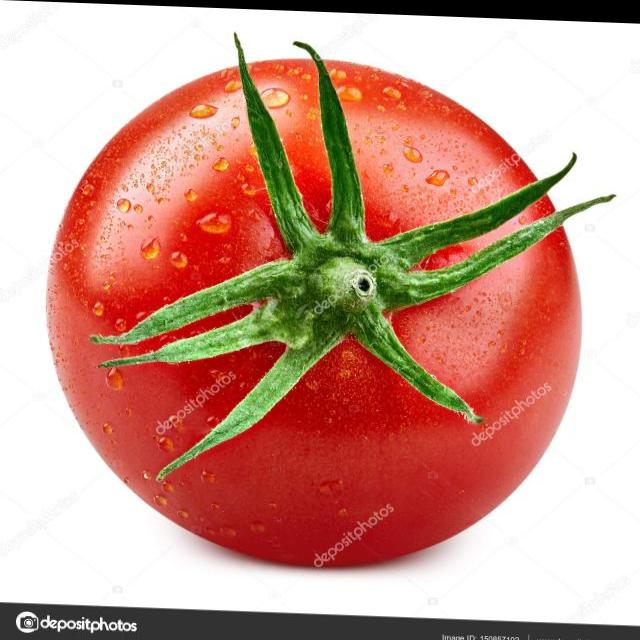kirmizi: (42, 43, 586, 579)
